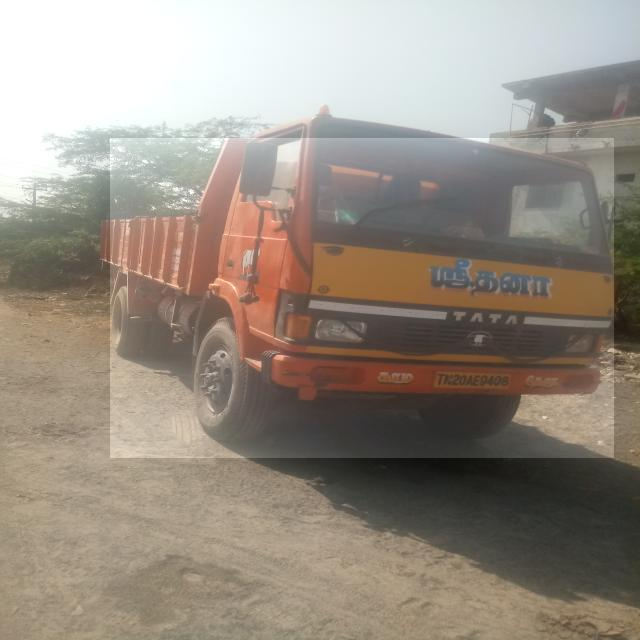Truck: (110, 138, 614, 458)
